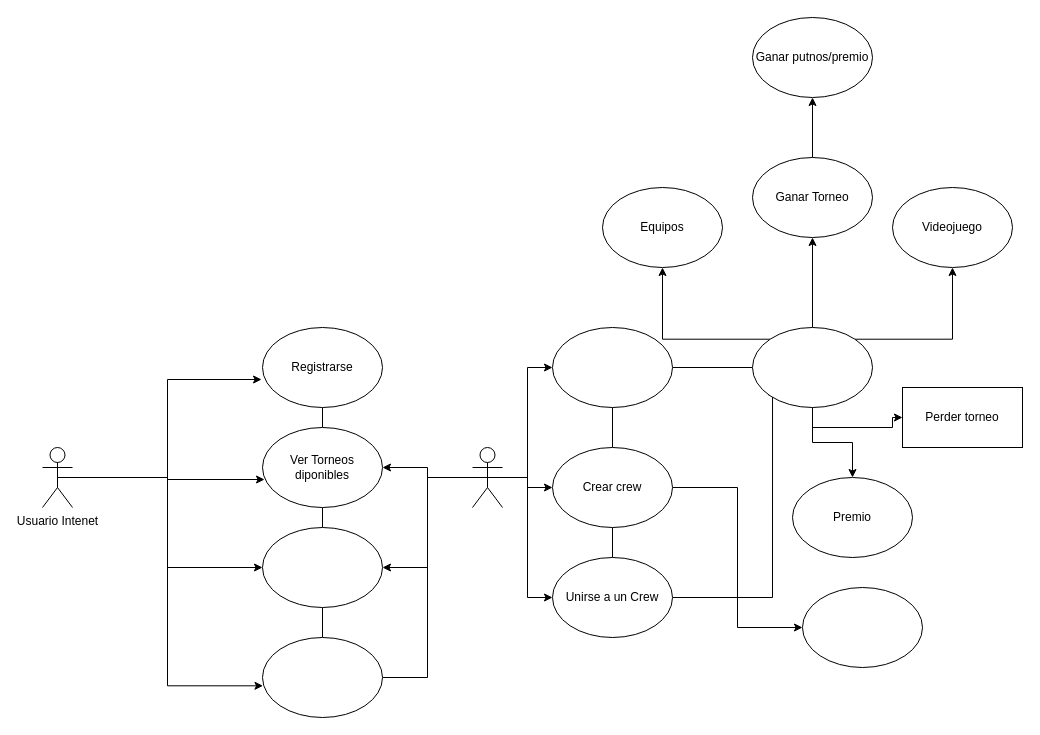
Image size: 1040x735. Some labels were removed from this diagram. The centre of each missing label's shape, as x and y in pixels:
"Aceptar/Rechazar solicitudes" goes at point (862, 627).
"Crear Torneo" goes at point (612, 367).
"Torneo" goes at point (812, 367).
"Usuario Registrado Team Leader / Player" goes at point (487, 477).
"Ver Crews" goes at point (322, 567).
"Ver torneos que se están jugando" goes at point (322, 677).
